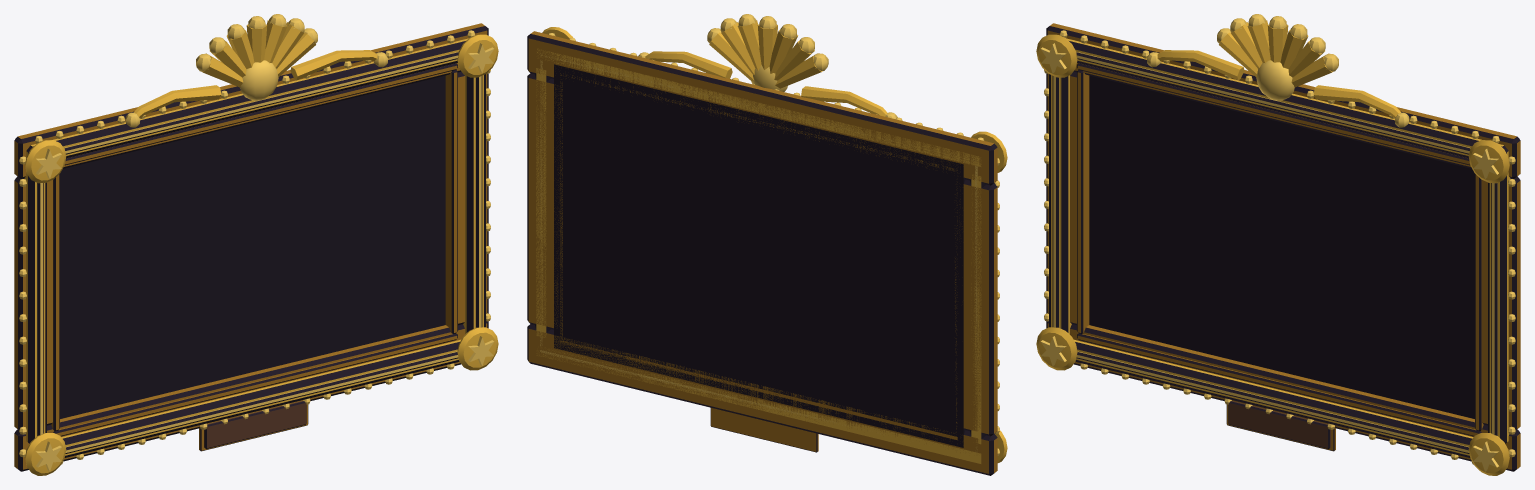
The model's file is portrait_frame_big.glb.
3 views of the same model, side by side, from view 1: azimuth 30°, elevation 25°; view 2: azimuth 150°, elevation 25°; view 3: azimuth 330°, elevation 25° (orthographic).
Visible parts, largest first — view 1: portrait_frame_big; view 2: portrait_frame_big; view 3: portrait_frame_big.
Boxes of the visible parts, x1,y1,x2,y2 form: portrait_frame_big: (14,14,498,475); portrait_frame_big: (527,14,1007,475); portrait_frame_big: (1036,14,1520,475).
Bounding box in the file's own units: 7.44 × 6.37 × 0.5.
